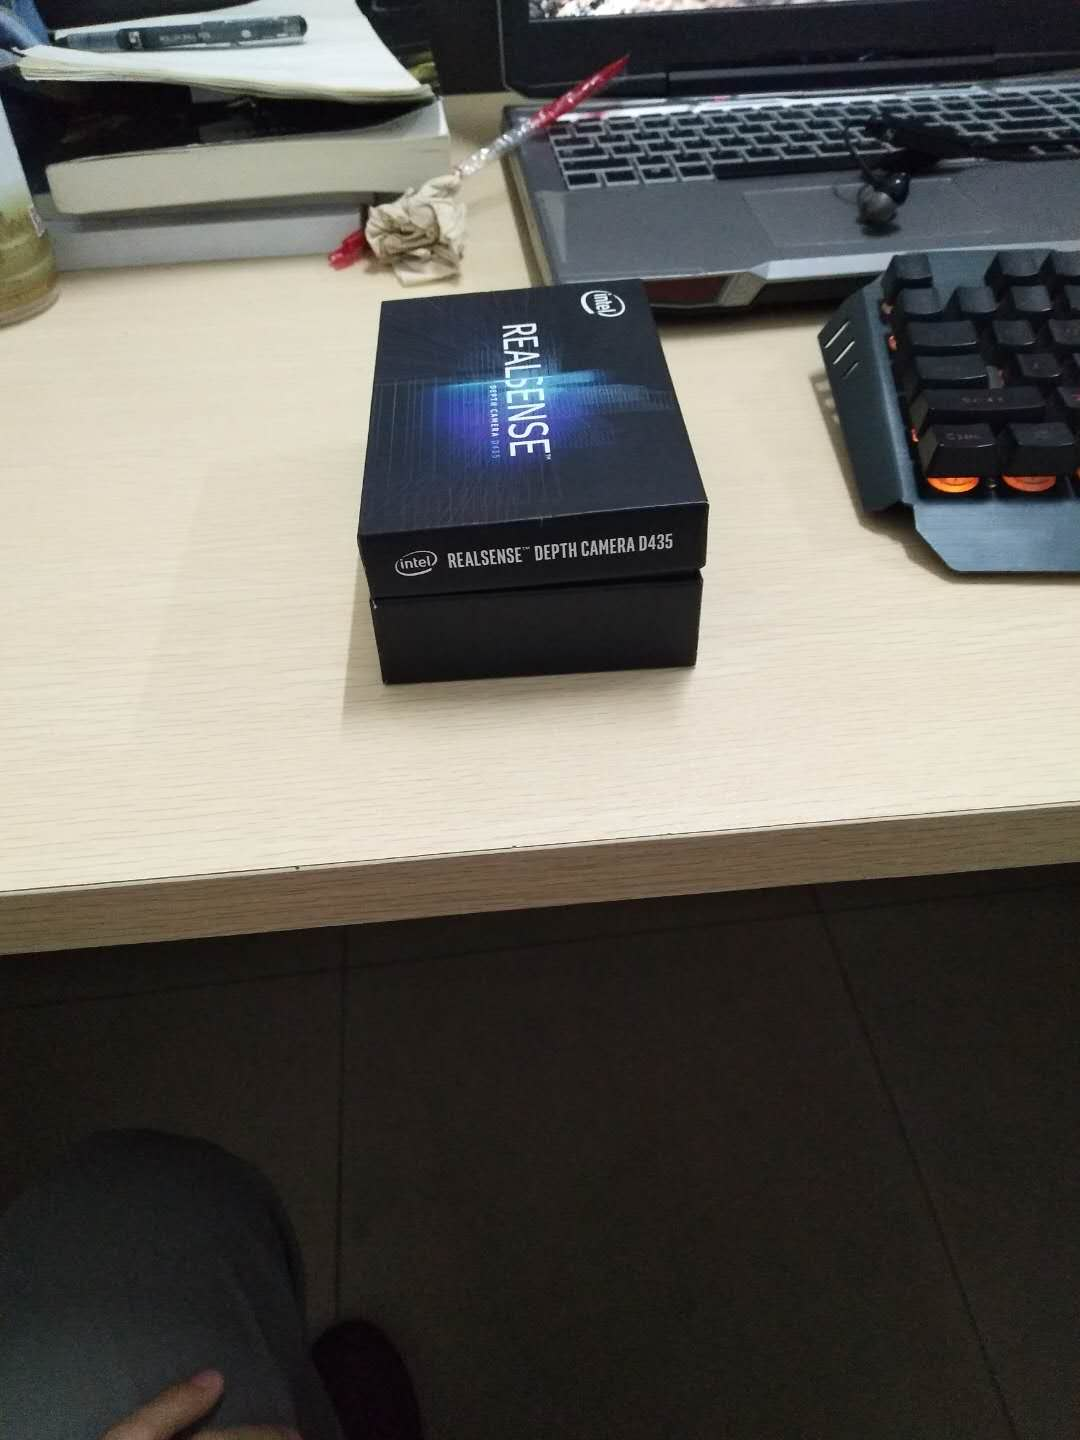box: (343, 283, 729, 702)
